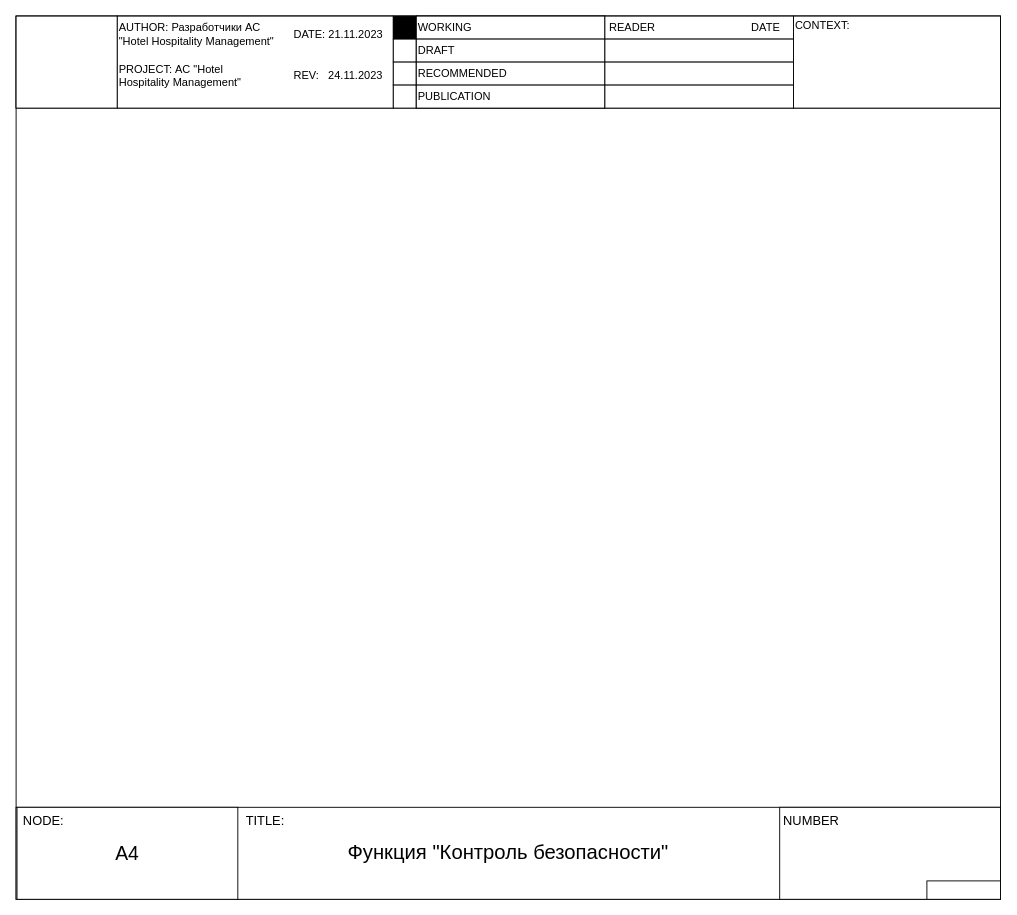
Image size: 1017x915. Some labels were removed from this diagram. Here are the shapes that lost their labels. From the top down, the box of each, then its label:
(15, 15, 117, 108): USED AT:
(793, 15, 1000, 108): A0
